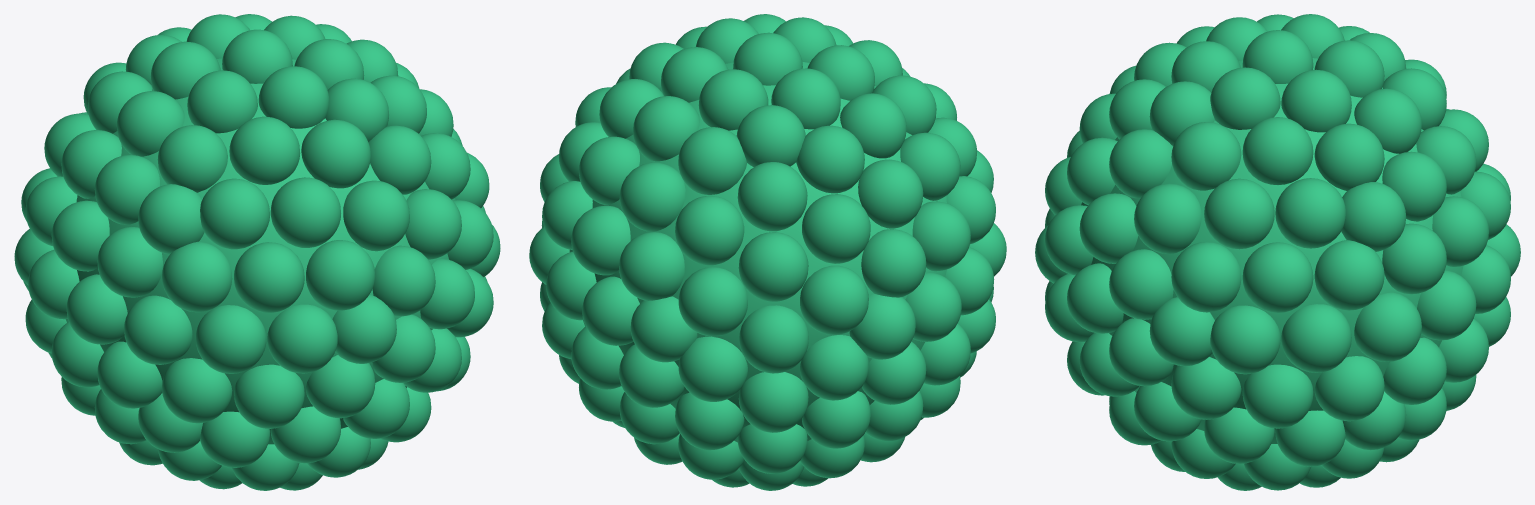
Rendered from Magnet ball.gltf.
3 views of the same model, side by side, from view 1: azimuth 30°, elevation 25°; view 2: azimuth 150°, elevation 25°; view 3: azimuth 270°, elevation 25° (orthographic).
Parts seen in each view (by area): view 1: Icosphere.005; view 2: Icosphere.005; view 3: Icosphere.005.
Boxes of the visible parts, x1,y1,x2,y2 form: Icosphere.005: [14, 14, 500, 490]; Icosphere.005: [529, 14, 1006, 490]; Icosphere.005: [1035, 14, 1520, 490].
Size of the model in its own units: 4.1 by 4.13 by 4.15.
